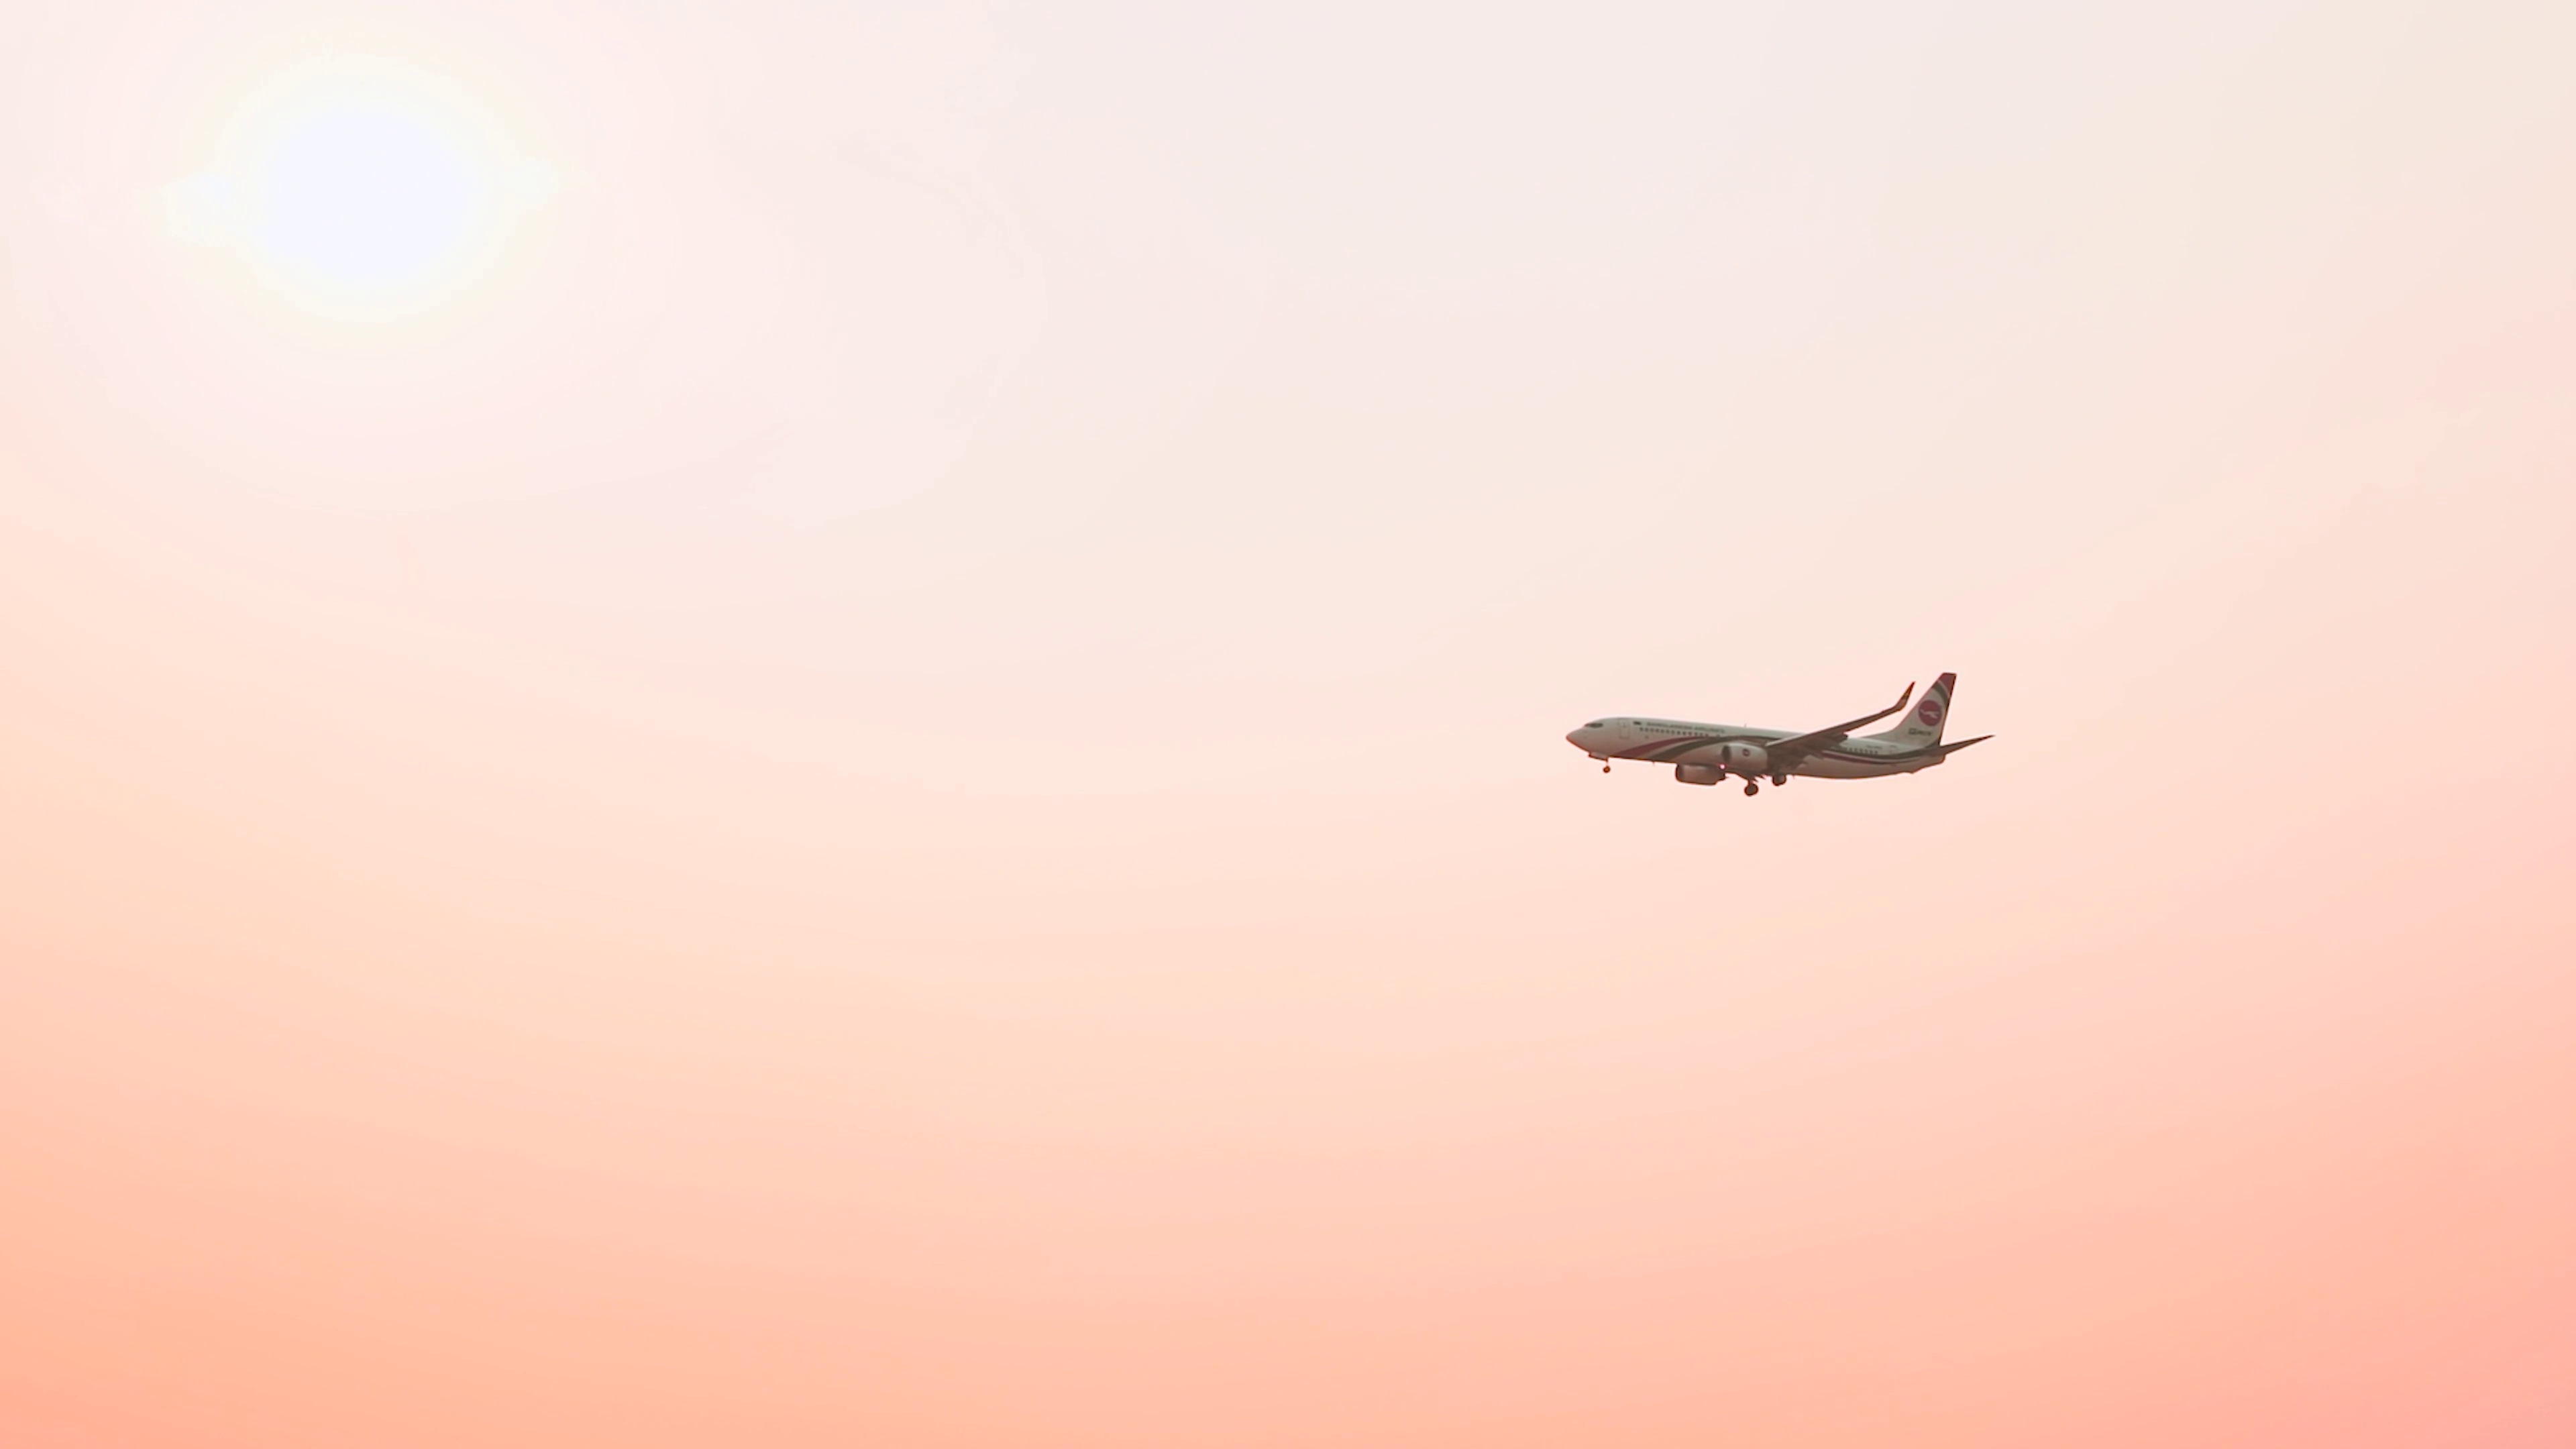plane: (1564, 671, 1987, 798)
